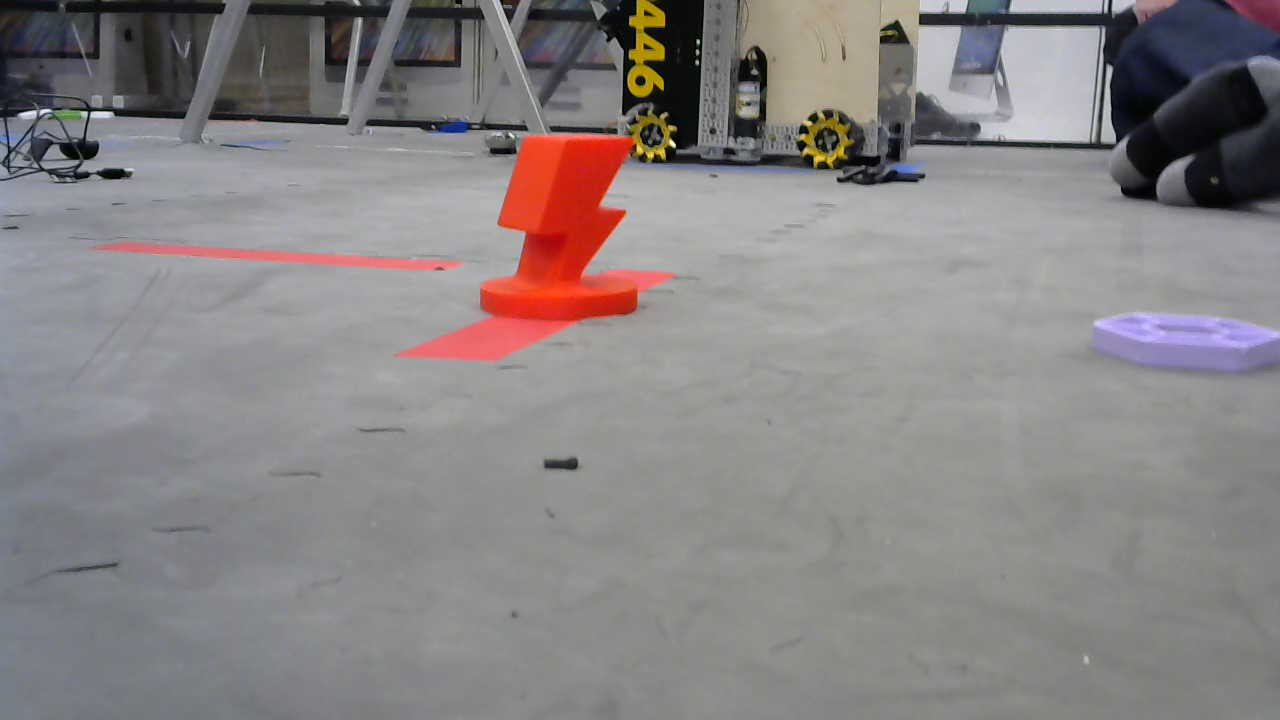redobject: (483, 126, 640, 318)
